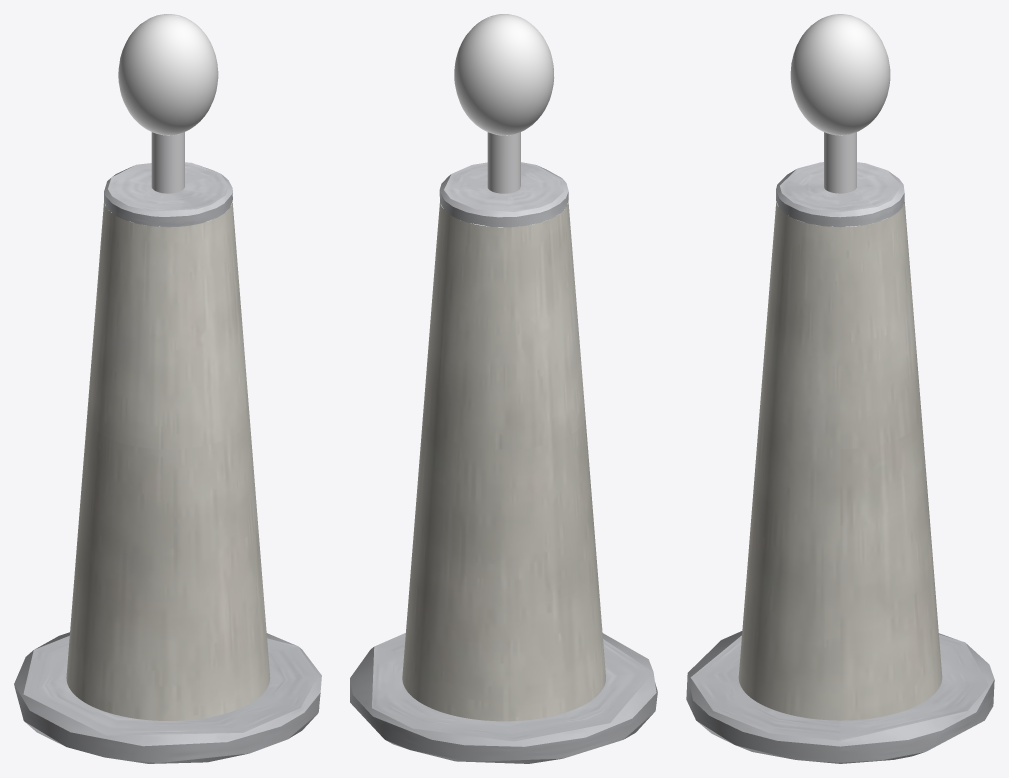
Rendered from ferro-orbis_queen_white.glb.
3 renders of one model, left to right at view 1: azimuth 30°, elevation 25°; view 2: azimuth 150°, elevation 25°; view 3: azimuth 270°, elevation 25°, orthographic.
Parts seen in each view (by area): view 1: ferro-orbis_queen_white; view 2: ferro-orbis_queen_white; view 3: ferro-orbis_queen_white.
Part boxes in pixels (left/top/right/bottom): ferro-orbis_queen_white: left=14, top=14, right=321, bottom=763; ferro-orbis_queen_white: left=350, top=14, right=657, bottom=763; ferro-orbis_queen_white: left=686, top=14, right=994, bottom=763.
Size of the model in its own units: 0.036 by 0.088 by 0.036.
Materials: 5 (3 with a texture image).
